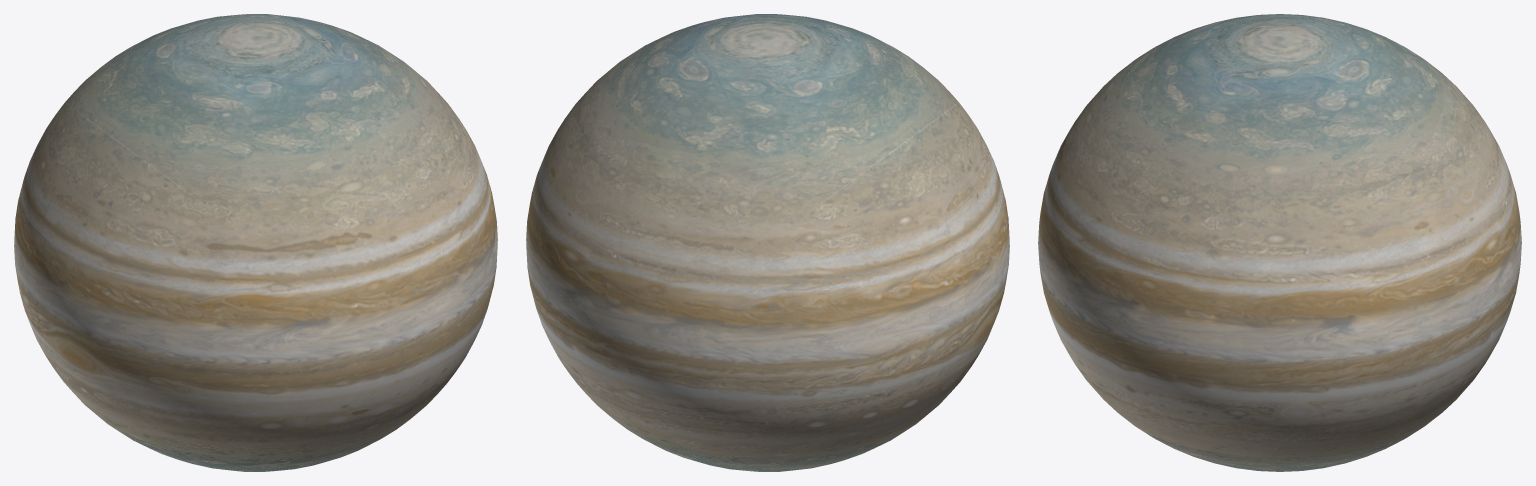
The model's file is jupiter.glb.
3 renders of one model, left to right at view 1: azimuth 30°, elevation 25°; view 2: azimuth 150°, elevation 25°; view 3: azimuth 270°, elevation 25°, orthographic.
Visible parts, largest first — view 1: cubemap; view 2: cubemap; view 3: cubemap.
Part boxes in pixels (x1,y1,x2,y2): cubemap: (14, 14, 497, 471); cubemap: (526, 14, 1009, 471); cubemap: (1038, 14, 1521, 471).
Bounding box in the file's own units: 1000 × 935 × 1000.
1 material, 1 textured.
